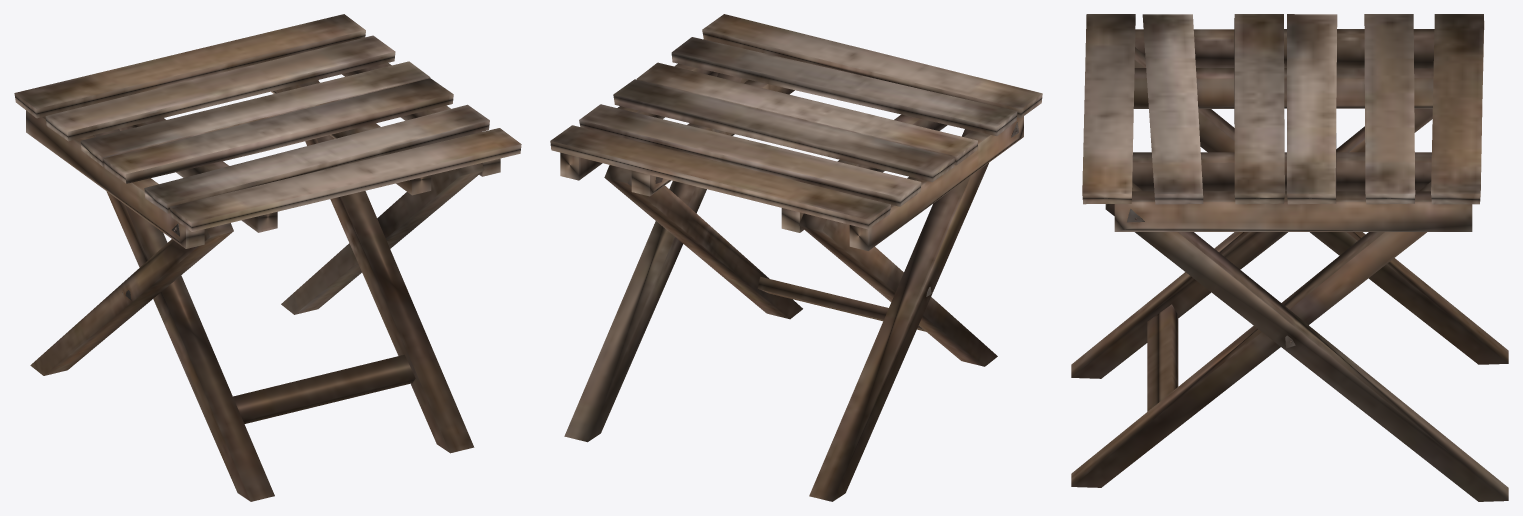
File: folding_stool_low.glb
3 views of the same model, side by side, from view 1: azimuth 30°, elevation 25°; view 2: azimuth 150°, elevation 25°; view 3: azimuth 270°, elevation 25° (orthographic). The views are drawn at different scales.
Visible parts, largest first — view 1: folding_wooden_stool; view 2: folding_wooden_stool; view 3: folding_wooden_stool.
Boxes of the visible parts, bbox=[...] form: folding_wooden_stool: bbox=[14, 14, 521, 501]; folding_wooden_stool: bbox=[550, 14, 1042, 501]; folding_wooden_stool: bbox=[1071, 14, 1508, 501].
Bounding box in the file's own units: 0.5257 × 0.4398 × 0.5401.
1 material, 1 textured.
